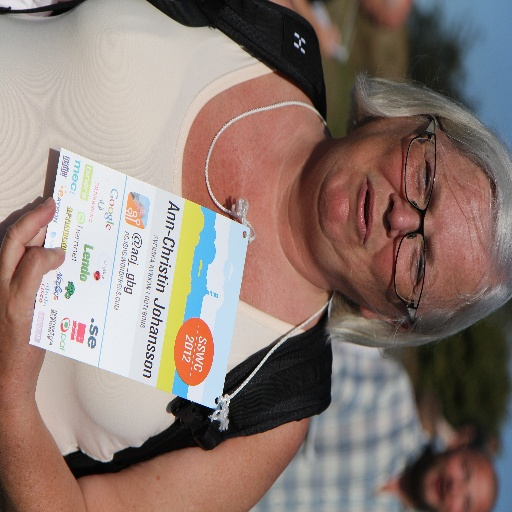hand: (2, 196, 66, 351)
